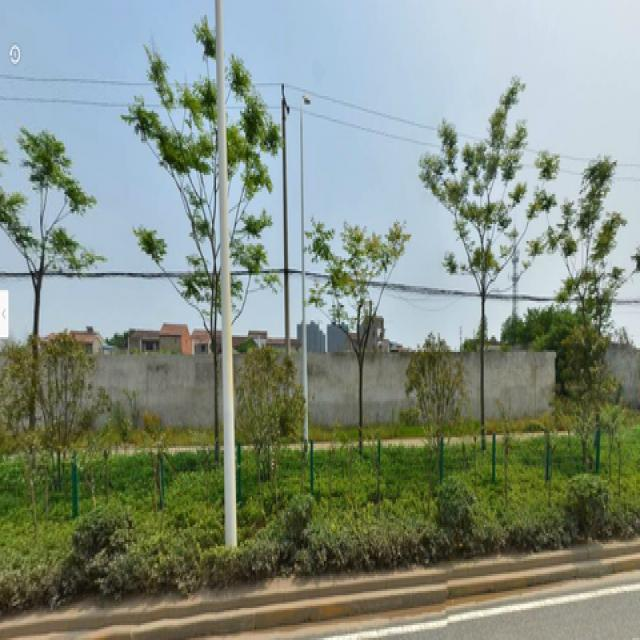koel: (161, 66, 224, 348), (458, 138, 526, 362), (328, 222, 392, 409), (16, 141, 65, 316), (558, 177, 614, 324)
